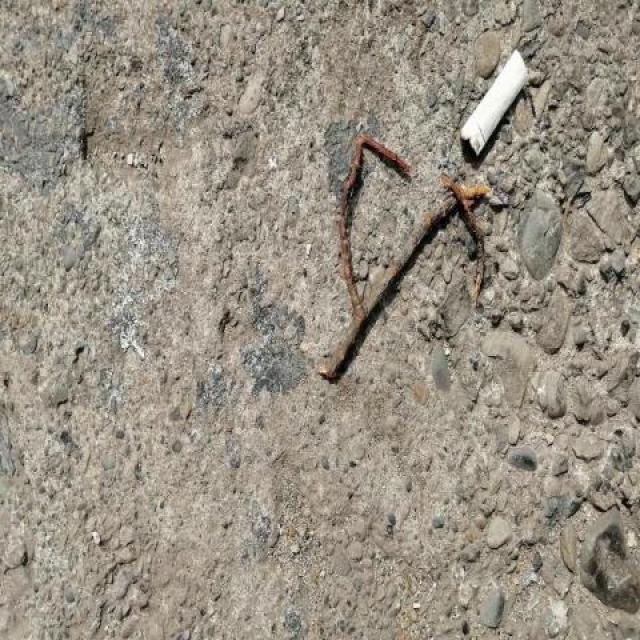non-organic waste: (457, 42, 532, 162)
